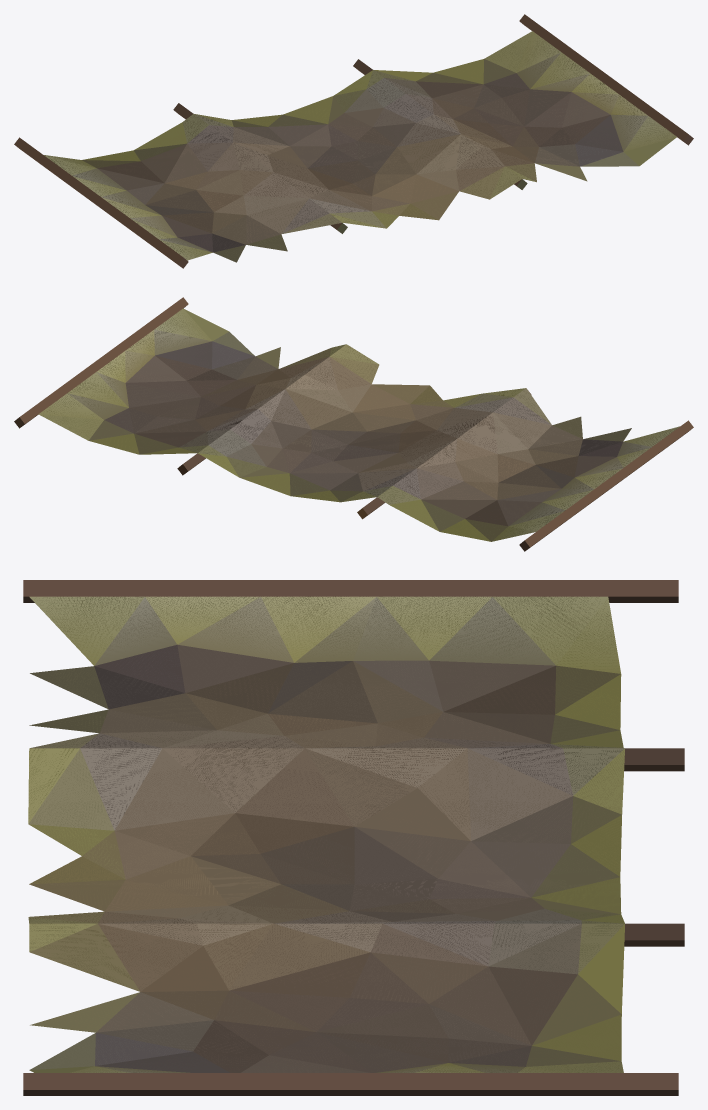
Rendered from Prop_OverhangJ.fbx.
The picture shows the model from 3 angles, top to bottom: view 1: azimuth 30°, elevation 25°; view 2: azimuth 150°, elevation 25°; view 3: azimuth 270°, elevation 25°; orthographic projection. The views are drawn at different scales.
Visible parts, largest first — view 1: Prop_OverhangJ; view 2: Prop_OverhangJ; view 3: Prop_OverhangJ.
Boxes of the visible parts, x1=… form: Prop_OverhangJ: x1=14, y1=14, x2=693, y2=268; Prop_OverhangJ: x1=14, y1=297, x2=693, y2=551; Prop_OverhangJ: x1=23, y1=580, x2=684, y2=1095.
Size of the model in its own units: 500 by 25.18 by 278.
